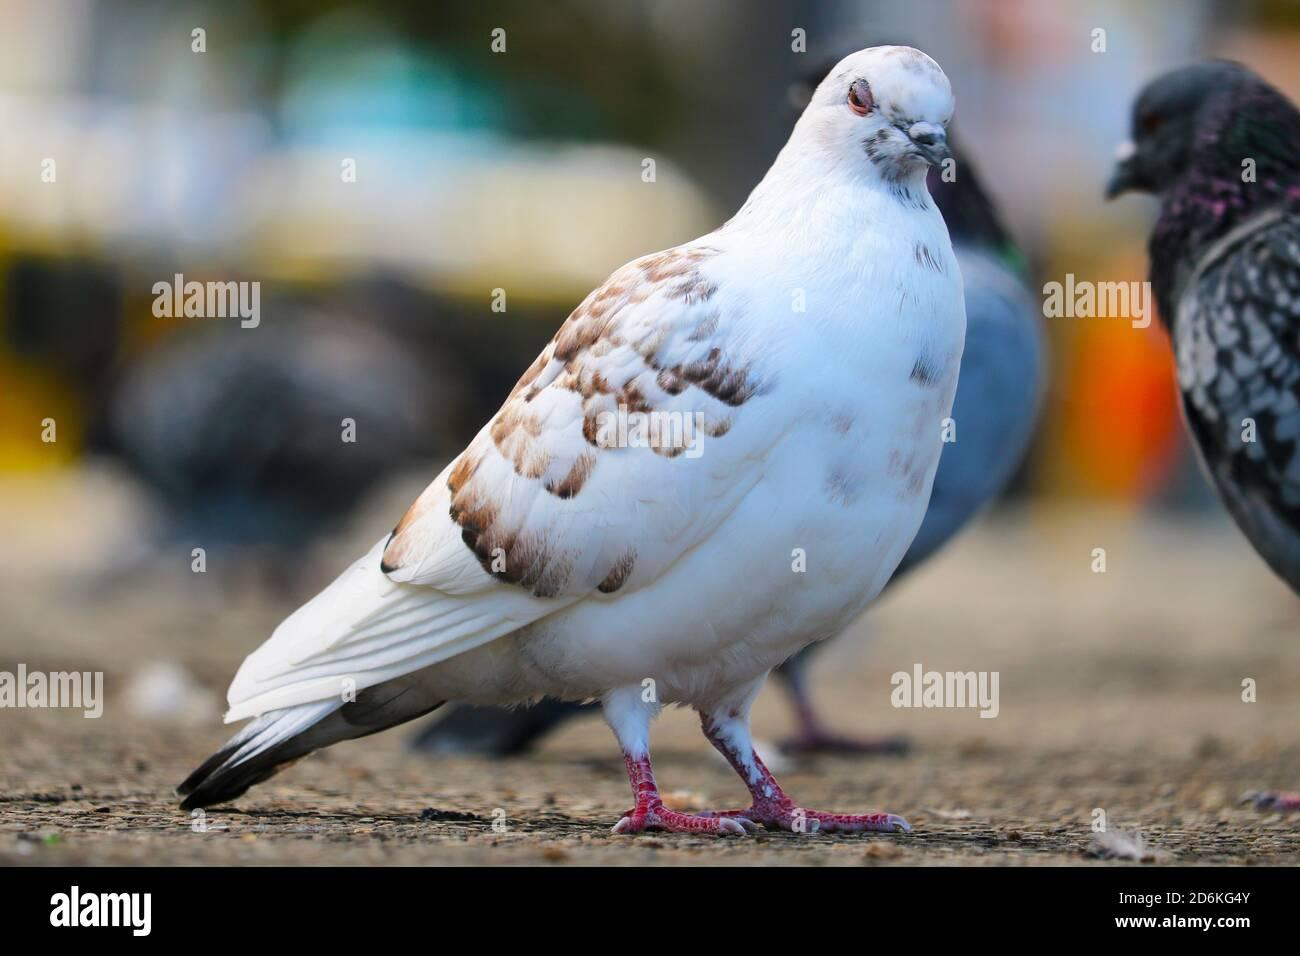Flying Rat: (176, 41, 965, 834), (1103, 50, 1300, 608)
